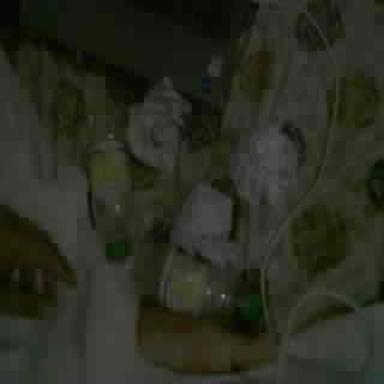bottle: (136, 242, 263, 331), (88, 126, 132, 261)
paper: (126, 78, 191, 171), (230, 126, 298, 205), (172, 182, 233, 250)
